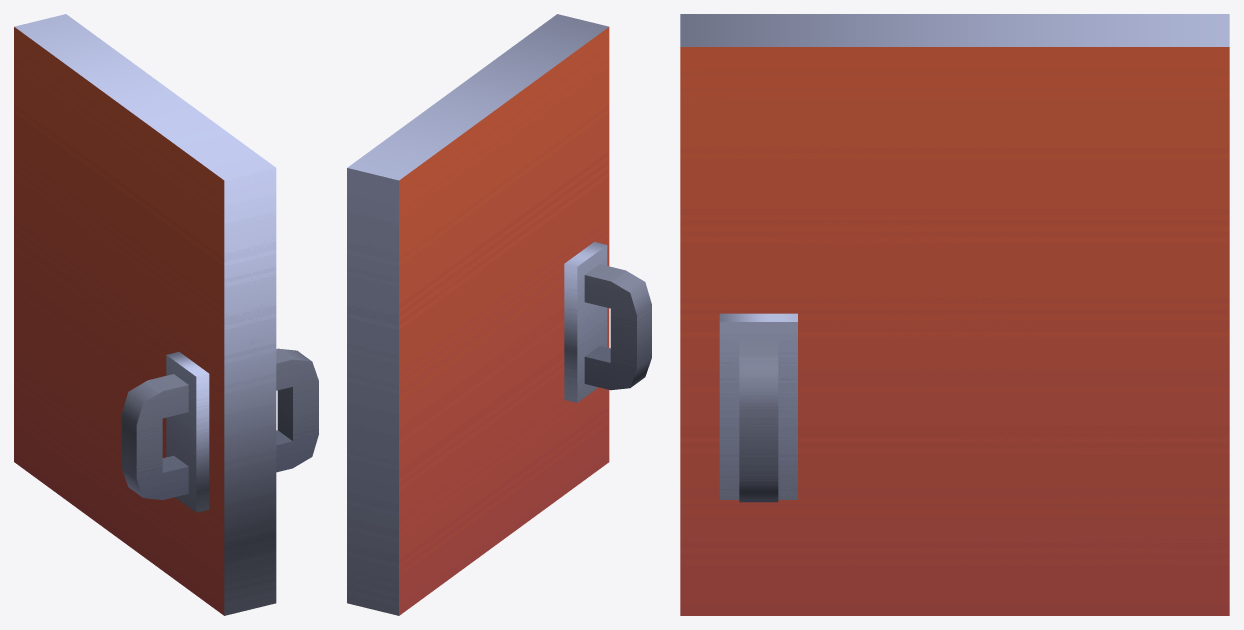
The model's file is door_sliding.glb.
3 views of the same model, side by side, from view 1: azimuth 30°, elevation 25°; view 2: azimuth 150°, elevation 25°; view 3: azimuth 270°, elevation 25° (orthographic). The views are drawn at different scales.
Visible parts, largest first — view 1: door; view 2: door; view 3: door.
Boxes of the visible parts, x1,y1,x2,y2 form: door: [14, 14, 318, 615]; door: [347, 14, 651, 615]; door: [680, 14, 1229, 615].
Size of the model in its own units: 0.35 by 0.8 by 0.7.
Materials: 1 (1 with a texture image).
